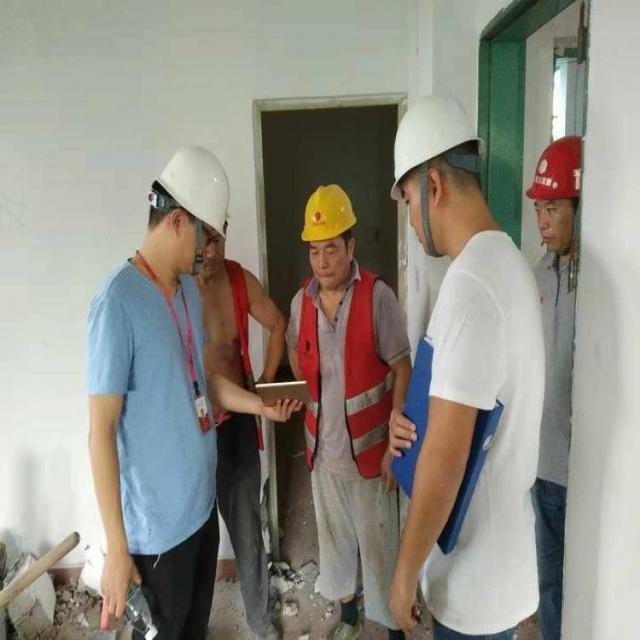Reflective-Jacket: (286, 269, 398, 482)
Safety-Helmet: (382, 86, 488, 204), (141, 135, 241, 247), (520, 128, 596, 212), (294, 177, 361, 250)
